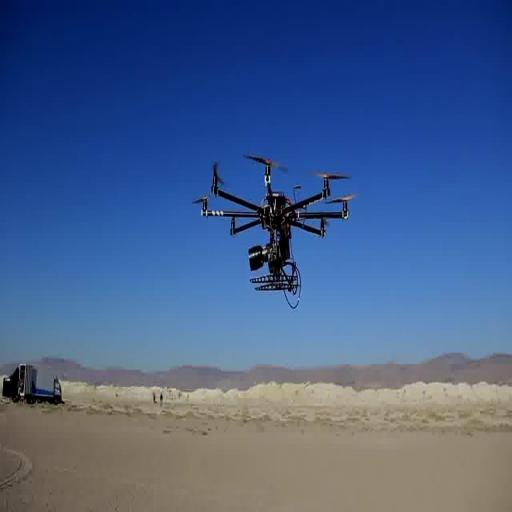drone: (195, 148, 355, 299)
